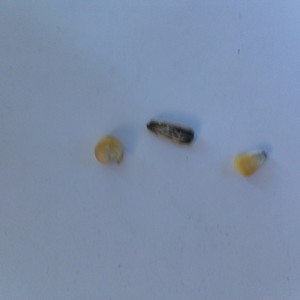girasol: (142, 117, 197, 148)
maiz: (232, 144, 271, 179), (92, 132, 126, 168)
